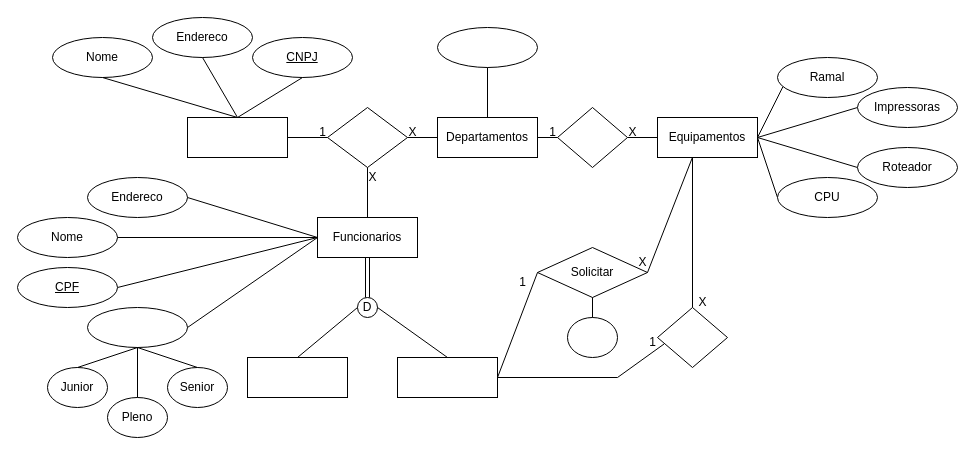
This 975x455 diagram has some shape labels left out. Here are the shapes that lost their labels. From the top down, the centre of each, then its label:
point (487, 47): NomDep
point (237, 137): Empresa
point (367, 137): Contem
point (592, 137): Possui
point (137, 327): Cargo
point (592, 337): Compra
point (692, 337): Controlar
point (297, 377): Comum
point (447, 377): Lider
